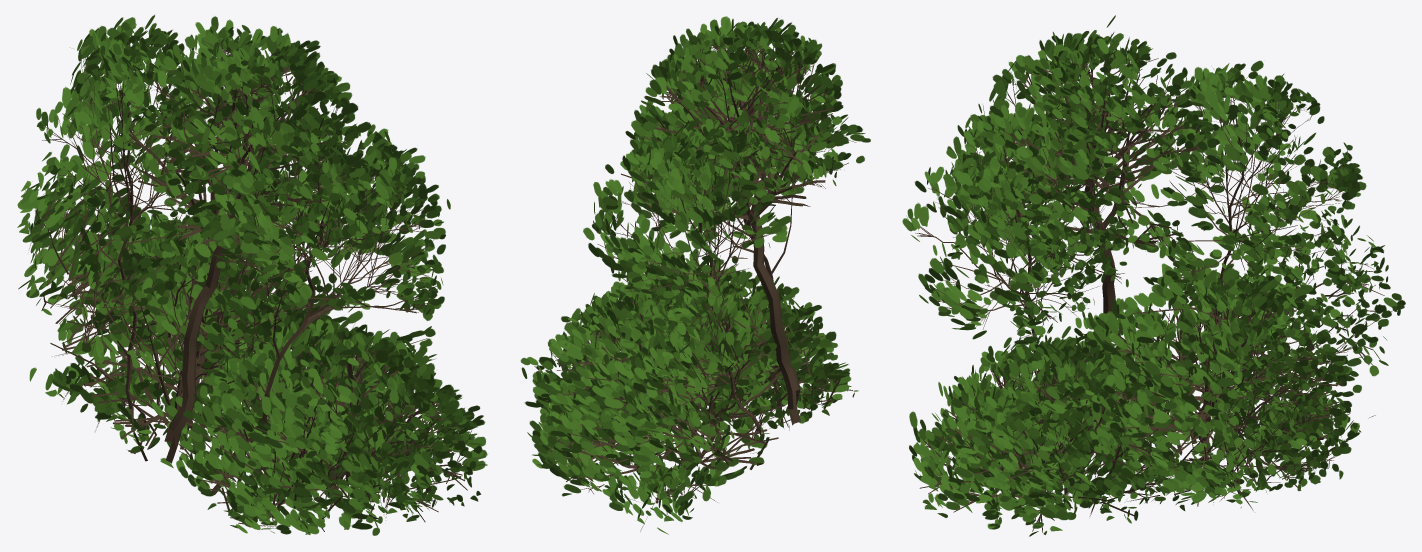
3 renders of one model, left to right at view 1: azimuth 30°, elevation 25°; view 2: azimuth 150°, elevation 25°; view 3: azimuth 270°, elevation 25°, orthographic. The views are drawn at different scales.
Parts seen in each view (by area): view 1: oak 01.001_trunk_Mat.001_0.212; view 2: oak 01.001_trunk_Mat.001_0.212; view 3: oak 01.001_trunk_Mat.001_0.212.
Part boxes in pixels (bbox=[...]): oak 01.001_trunk_Mat.001_0.212: bbox=[17, 15, 487, 535]; oak 01.001_trunk_Mat.001_0.212: bbox=[520, 16, 870, 534]; oak 01.001_trunk_Mat.001_0.212: bbox=[902, 15, 1405, 536].
Bounding box in the file's own units: 2.41 × 3.66 × 3.81.
2 materials, 1 textured.
